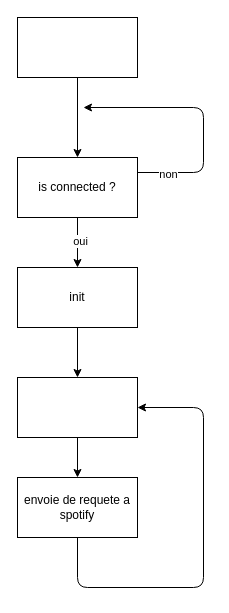
The diagram is 229 pixels wide and 613 high, and some of its shapes have lost their labels. The centre of each missing label's shape, as x and y in pixels:
"Assi" belongs at (77,47).
"lancement du serveur dans le threads" belongs at (77,407).
